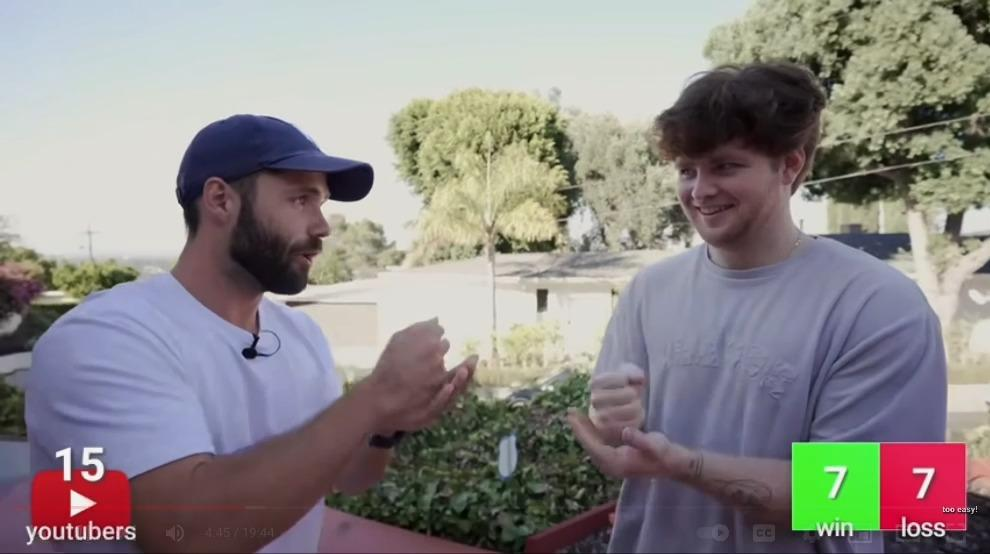Rock: (370, 314, 451, 419), (588, 363, 647, 444)
